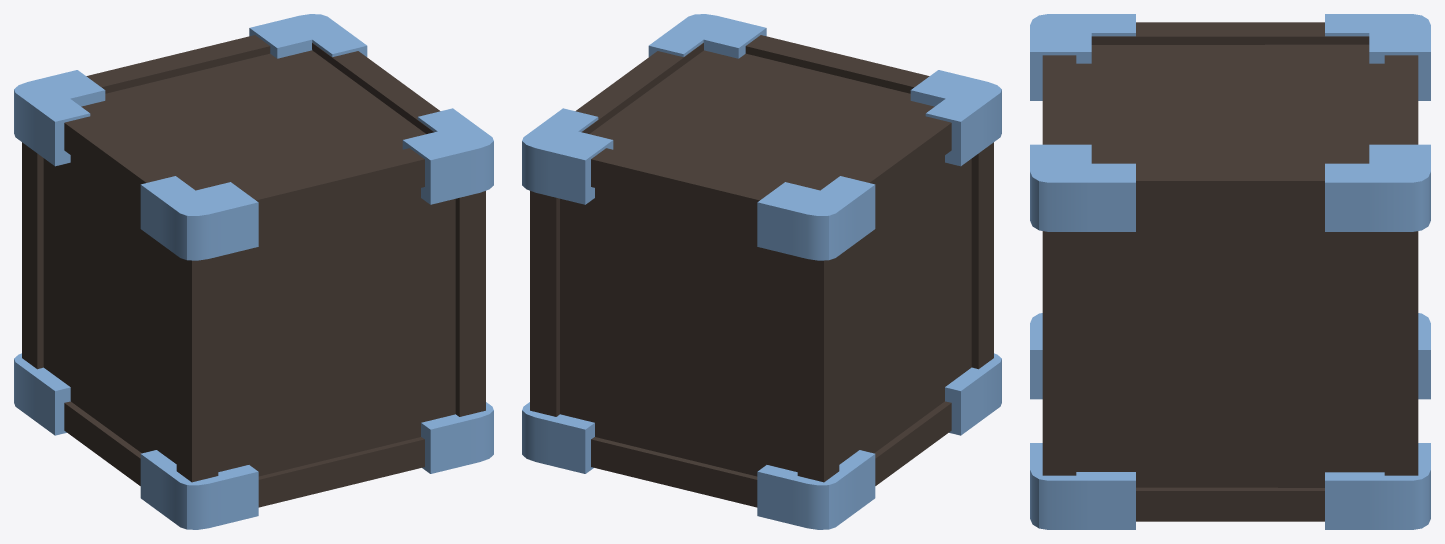
File: woodbox.fbx
3 views of the same model, side by side, from view 1: azimuth 30°, elevation 25°; view 2: azimuth 150°, elevation 25°; view 3: azimuth 270°, elevation 25° (orthographic). The views are drawn at different scales.
Visible parts, largest first — view 1: Cube.015; view 2: Cube.015; view 3: Cube.015.
Part boxes in pixels (x1,y1,x2,y2): Cube.015: (14, 14, 493, 529); Cube.015: (522, 14, 1001, 529); Cube.015: (1030, 14, 1430, 529).
Bounding box in the file's own units: 1 × 0.9623 × 1.01.
